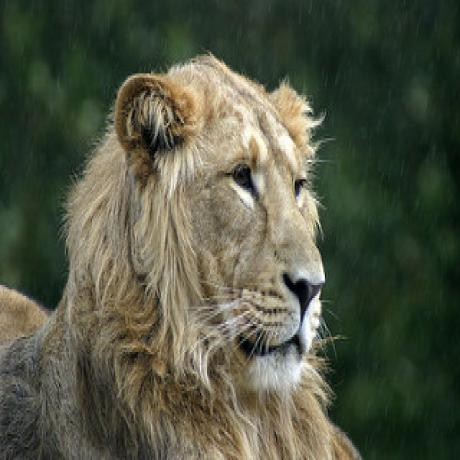Lion: (0, 43, 365, 460)
